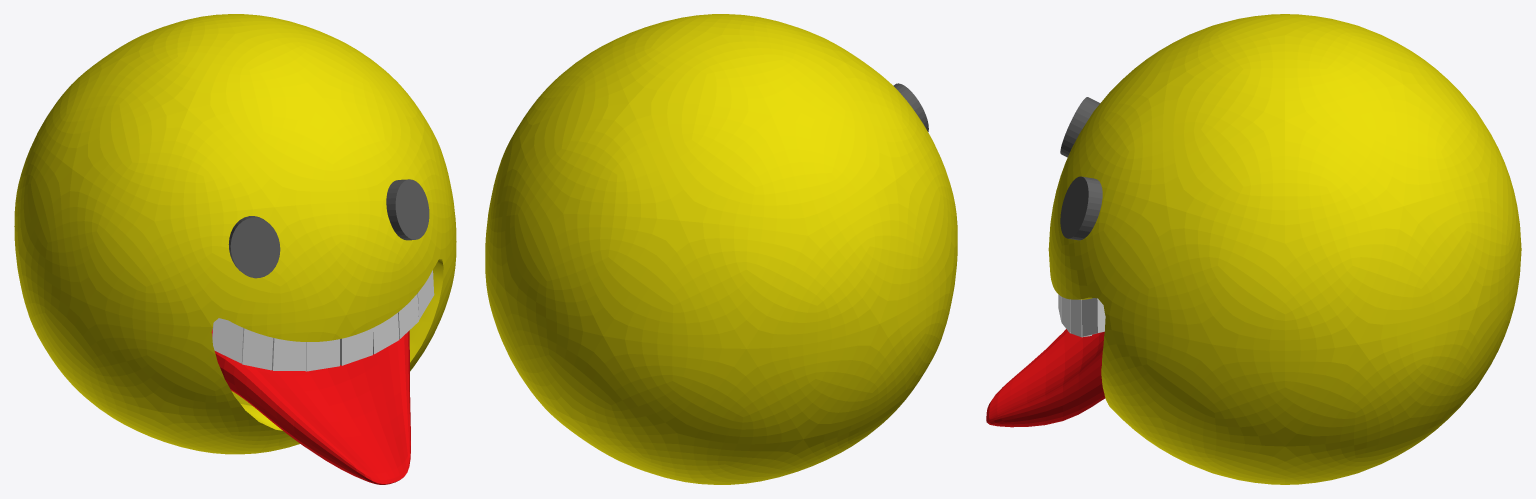
The model's file is emoticon.fbx.
3 views of the same model, side by side, from view 1: azimuth 30°, elevation 25°; view 2: azimuth 150°, elevation 25°; view 3: azimuth 270°, elevation 25° (orthographic). The views are drawn at different scales.
Visible parts, largest first — view 1: Icosphere, Cube.006, Cylinder, Cube.003, Cube.004, Cube.005, Cube.002, Cube.001; view 2: Icosphere; view 3: Icosphere, Cube.006, Cylinder, Cube.005.
Boxes of the visible parts, bbox=[...] form: Icosphere: bbox=[14, 14, 456, 454]; Cube.006: bbox=[211, 329, 410, 484]; Cylinder: bbox=[228, 179, 429, 278]; Cube.003: bbox=[272, 313, 399, 371]; Cube.004: bbox=[241, 293, 418, 370]; Cube.005: bbox=[212, 270, 434, 363]; Cube.002: bbox=[306, 339, 339, 371]; Cube.001: bbox=[340, 328, 372, 365]; Icosphere: bbox=[485, 14, 957, 484]; Icosphere: bbox=[1048, 14, 1521, 484]; Cube.006: bbox=[986, 329, 1105, 427]; Cylinder: bbox=[1060, 97, 1102, 240]; Cube.005: bbox=[1082, 298, 1105, 336].
Bounding box in the file's own units: 168 × 168 × 190.
